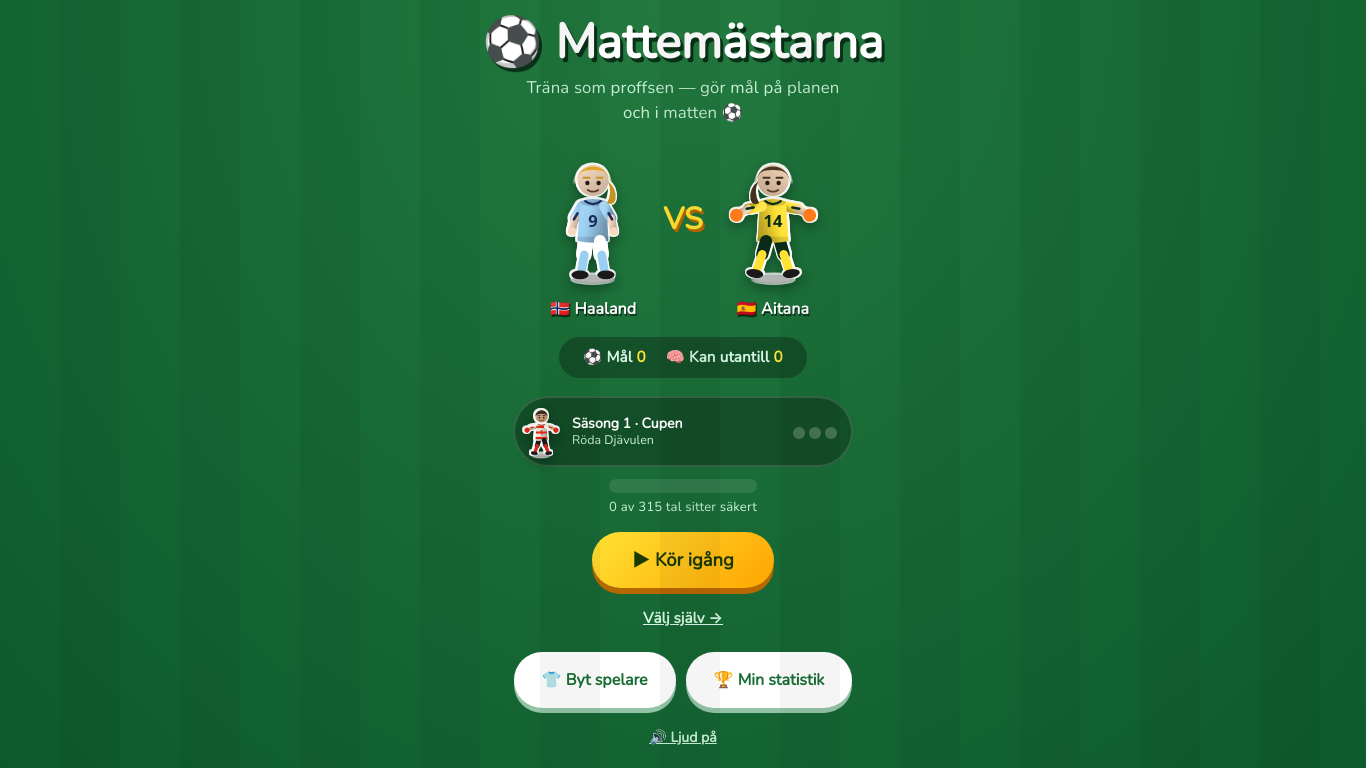
Test: Legenddraget prototype, through the real component tree › starts as an untimed five-touch move with the fictional player
Click the button "Välj själv →".
click(683, 618)  # box [627, 596, 739, 640]
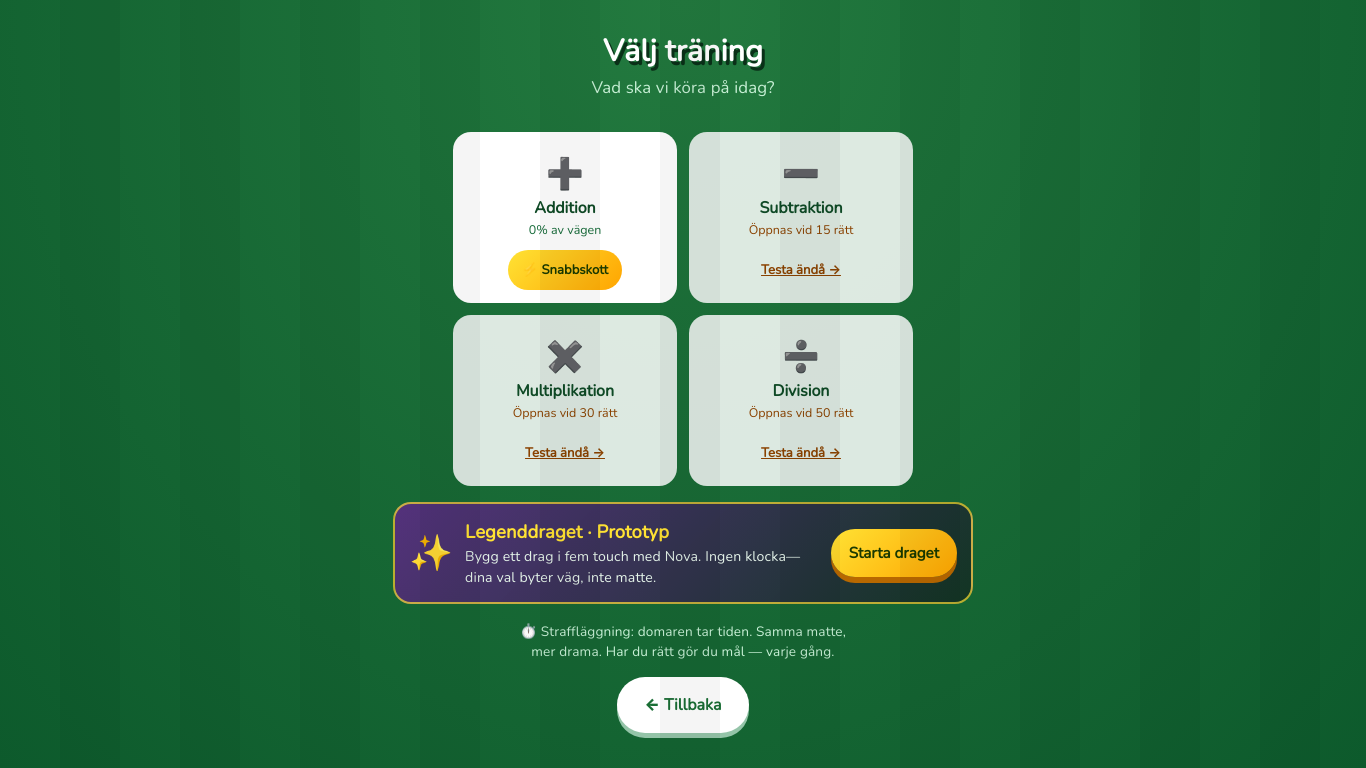
Click the button "Starta draget".
click(894, 553)  # box [831, 529, 957, 577]
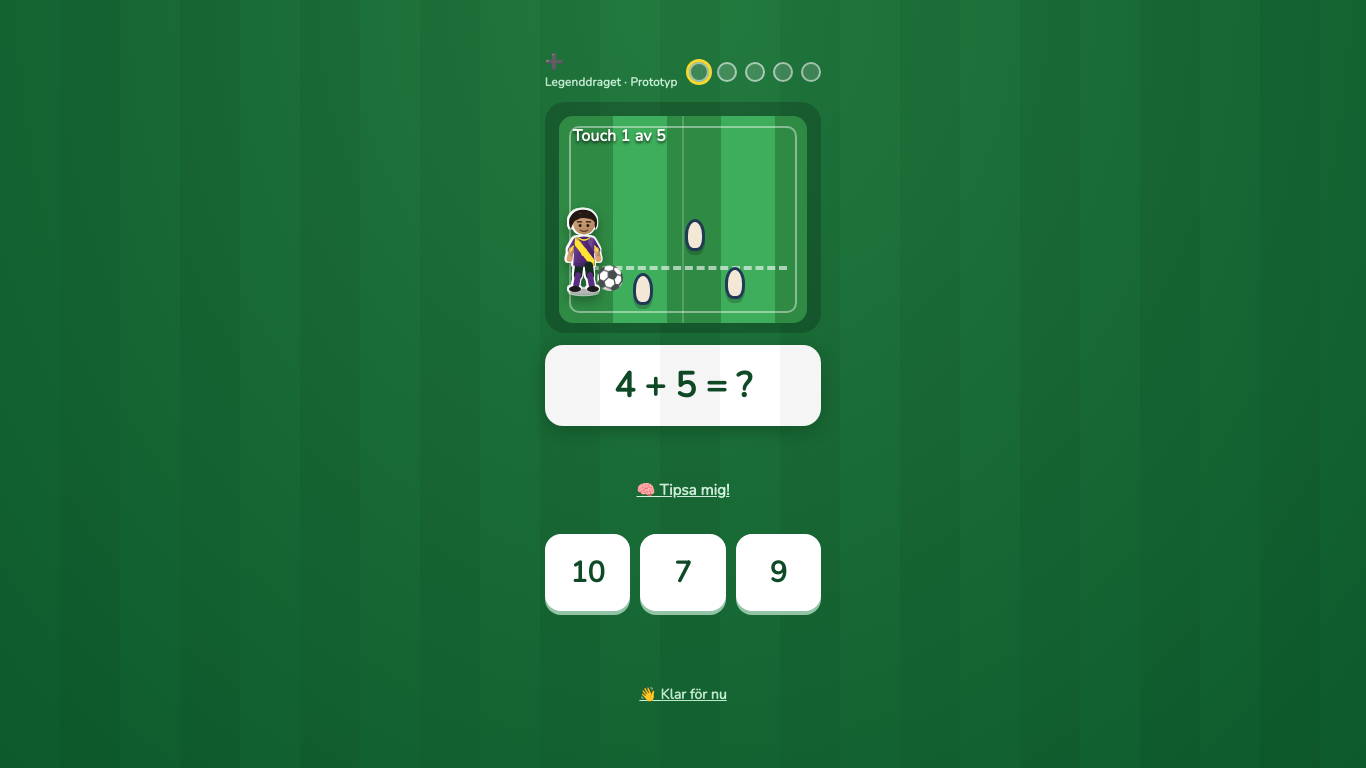
Check: the element with class "legend-pitch" is shown, box [559, 116, 807, 323]
Check: the number of elements with class "dot" is 5, box [689, 62, 709, 82]; [717, 62, 737, 82]; [745, 62, 765, 82]; [773, 62, 793, 82]; [801, 62, 821, 82]
Check: the picture named "Nova" is shown, box [559, 202, 620, 298]
